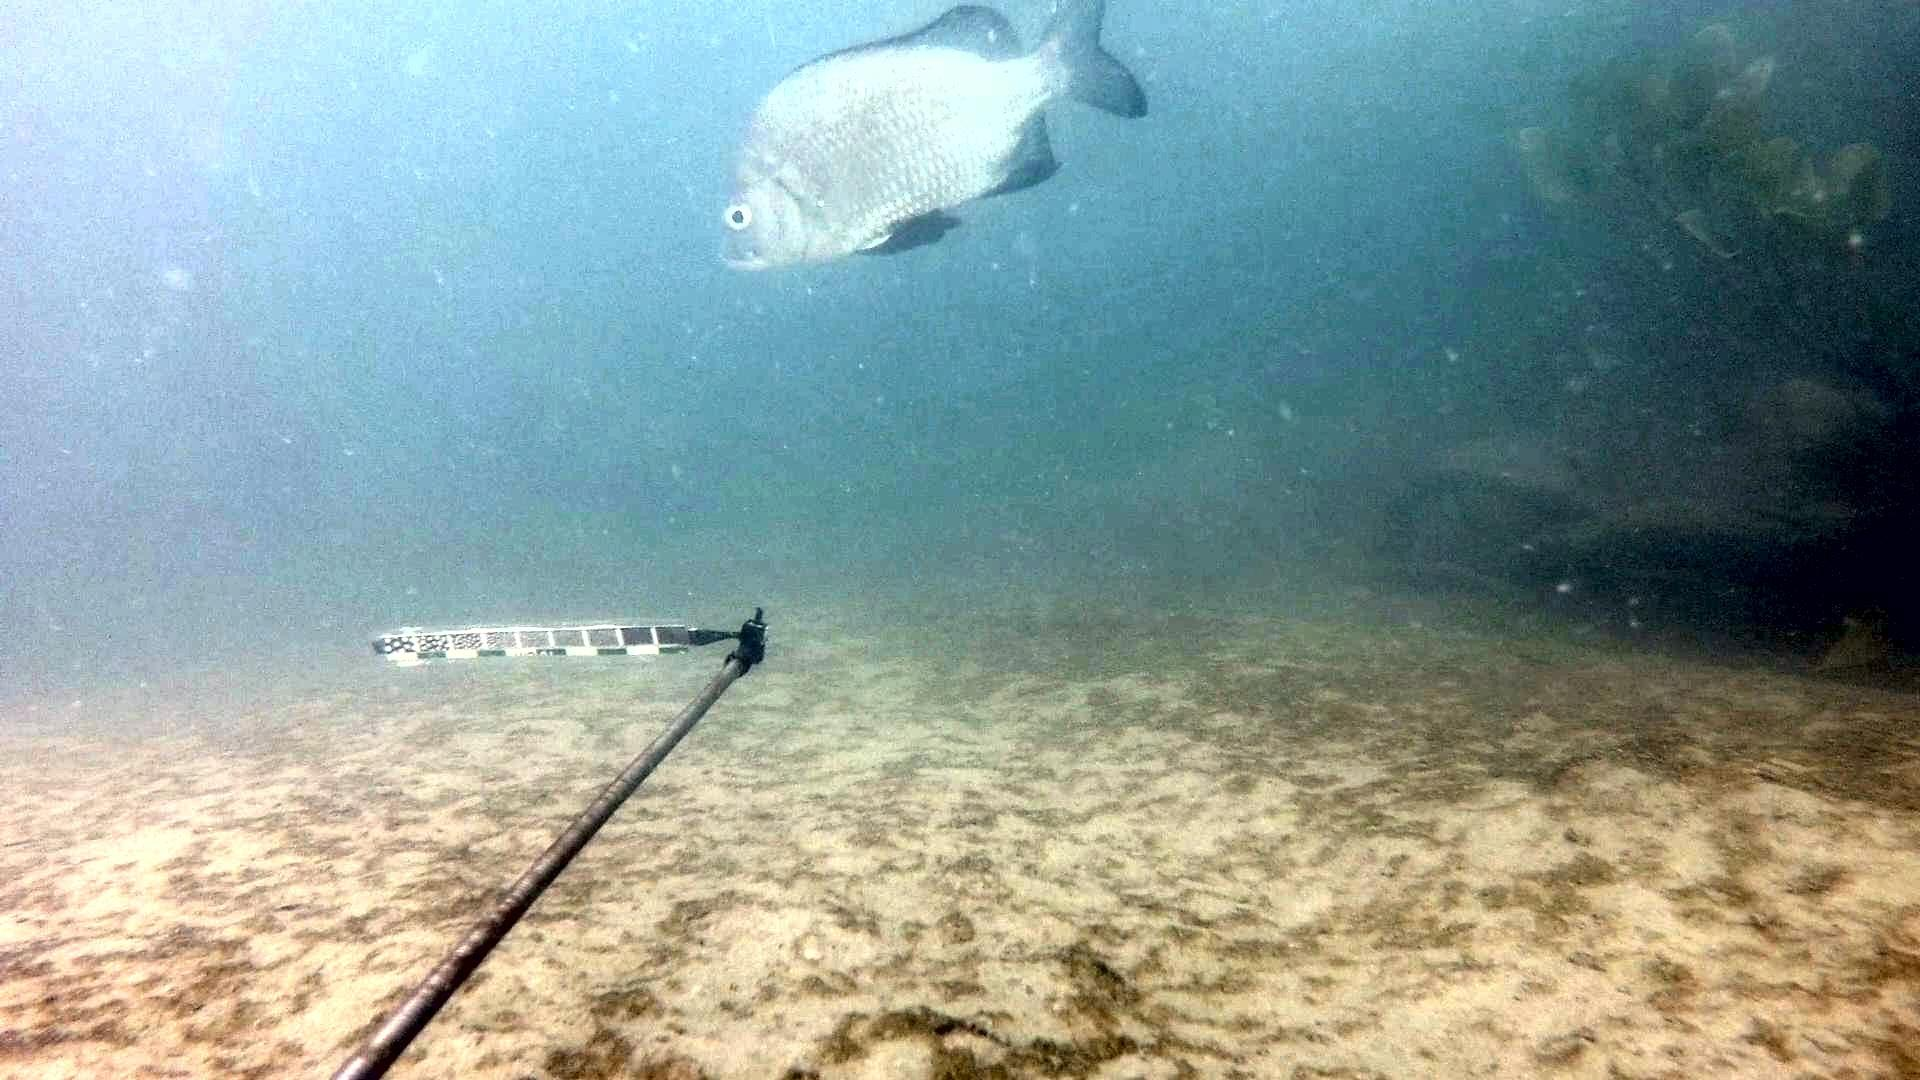acanthopagrus palmaris: (705, 0, 1163, 286)
